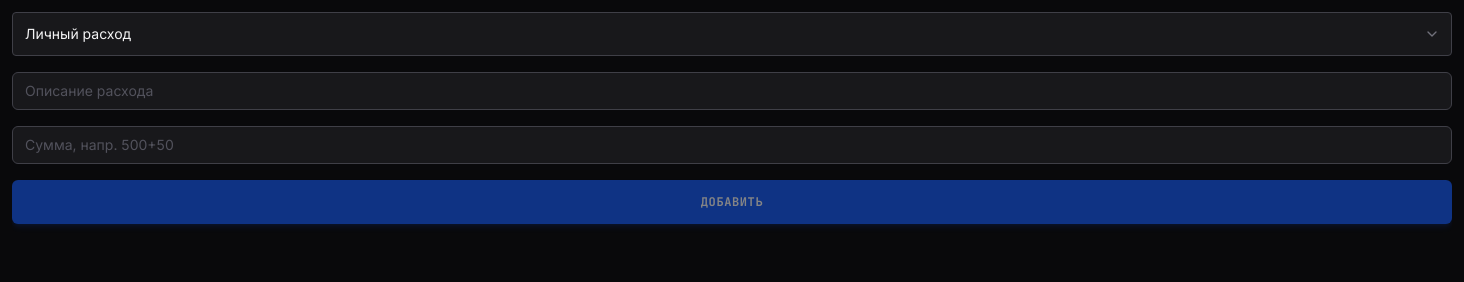
Test case: ExpenseForm › amount input (T-036) › enables submit while typing an expression, without blur
This screenshot has width=1464, height=282.
In the field with placeholder "Описание расхода": (732, 91) [12,72,1452,110], type "молоко"
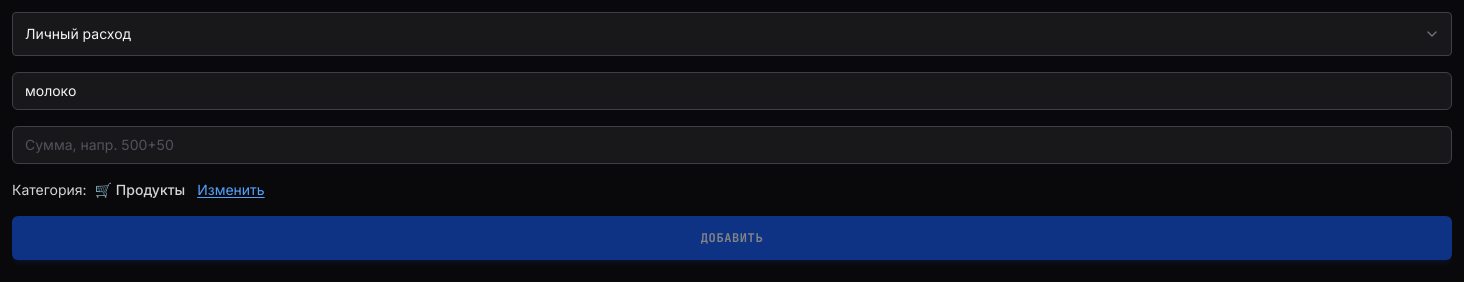
In the field with placeholder "Сумма, напр. 500+50": (732, 145) [12,126,1452,164], type "30000+5000*2"
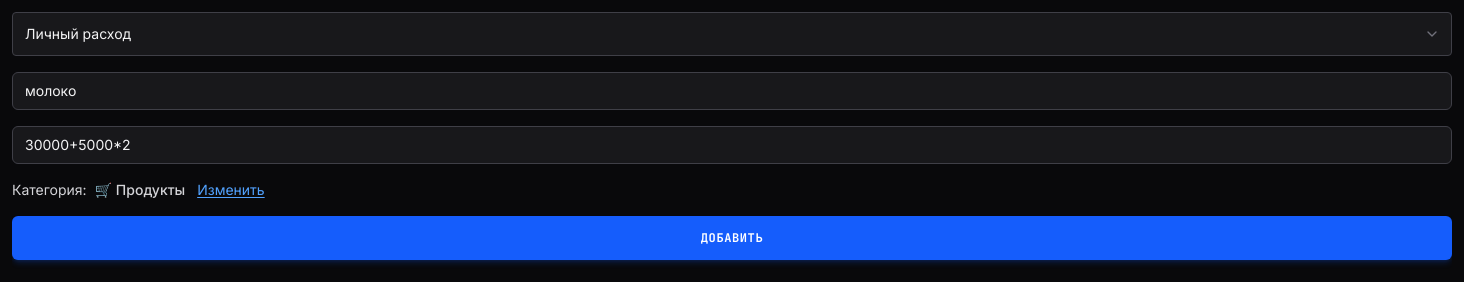
Now the button "Добавить" is enabled, box [12,216,1452,260]
